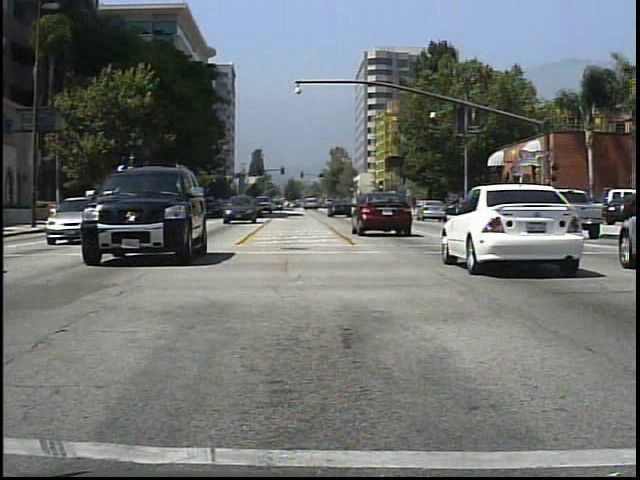person: (546, 191, 565, 228), (500, 188, 518, 224)
